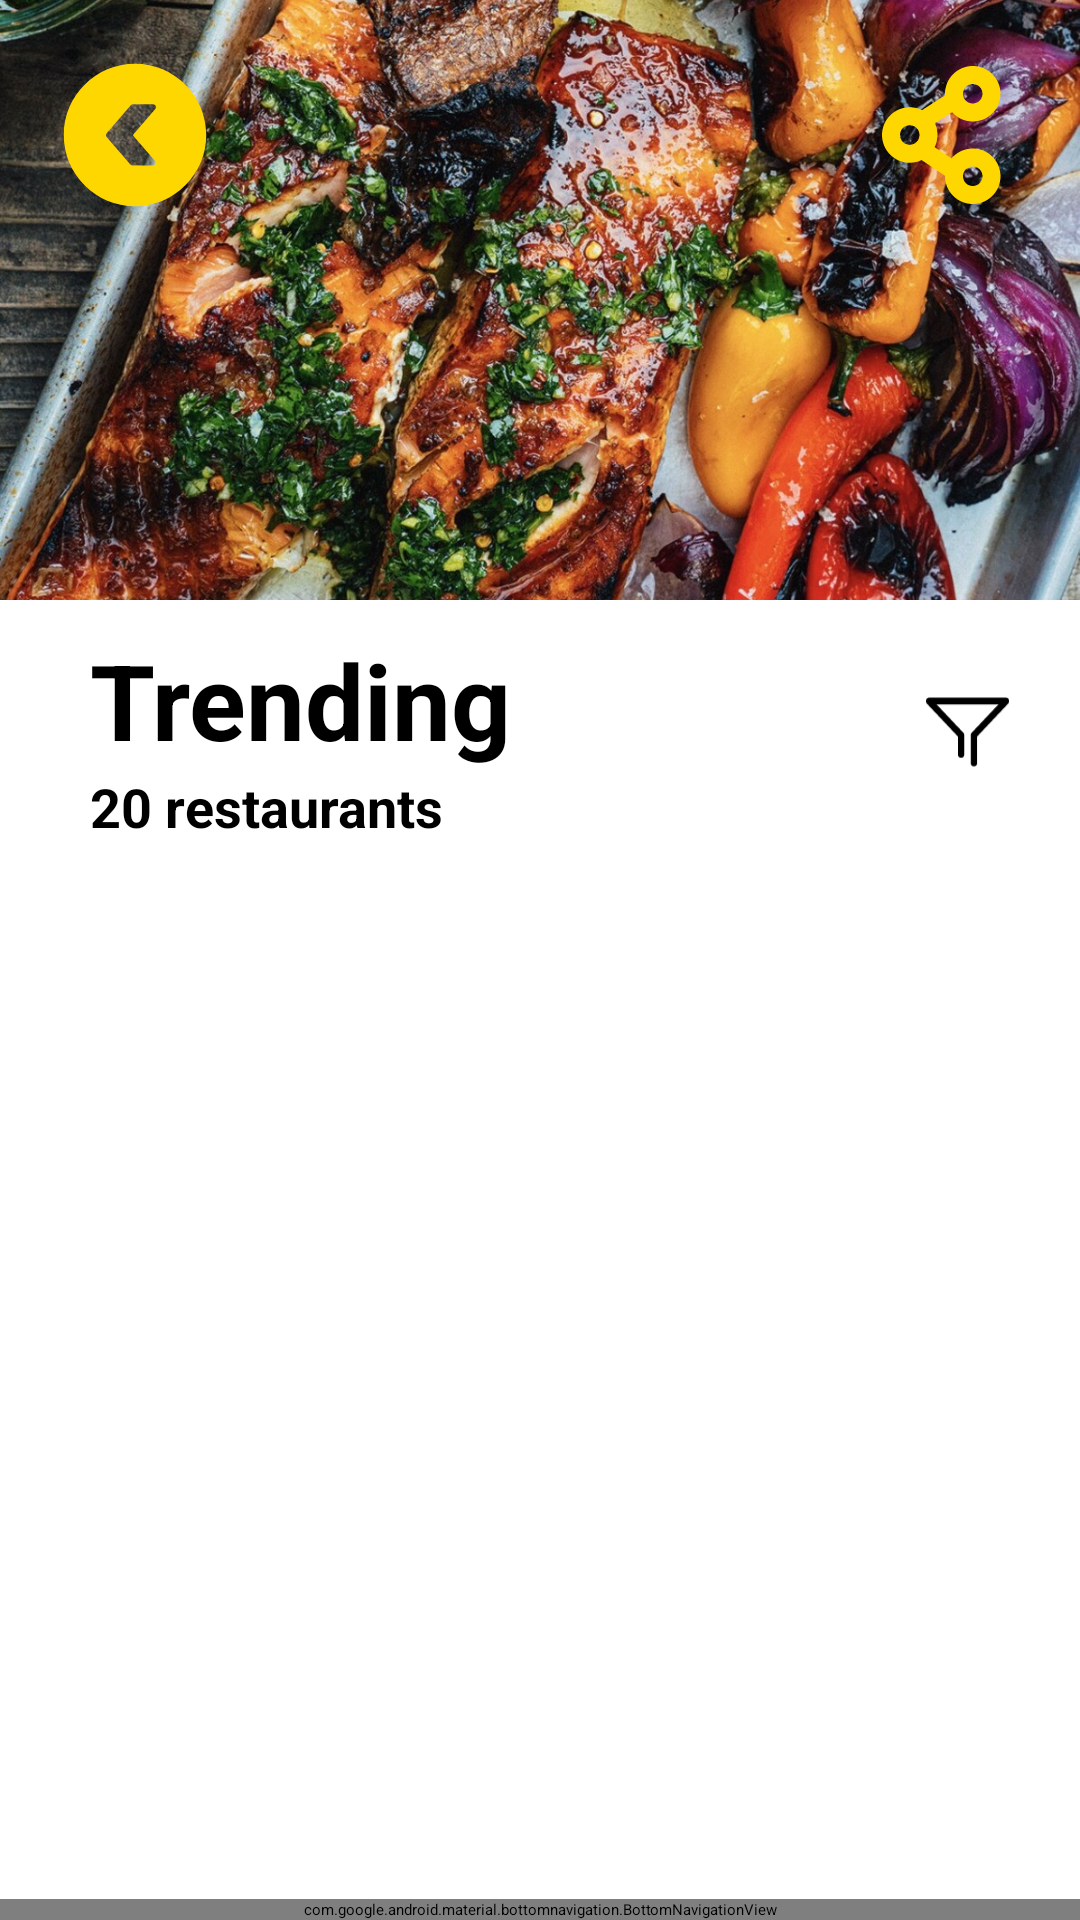

Icon click points for this 1080 × 1920 phone screenshot, format (x,y):
back: (135,135)
filter: (967,732)
share: (945,135)
